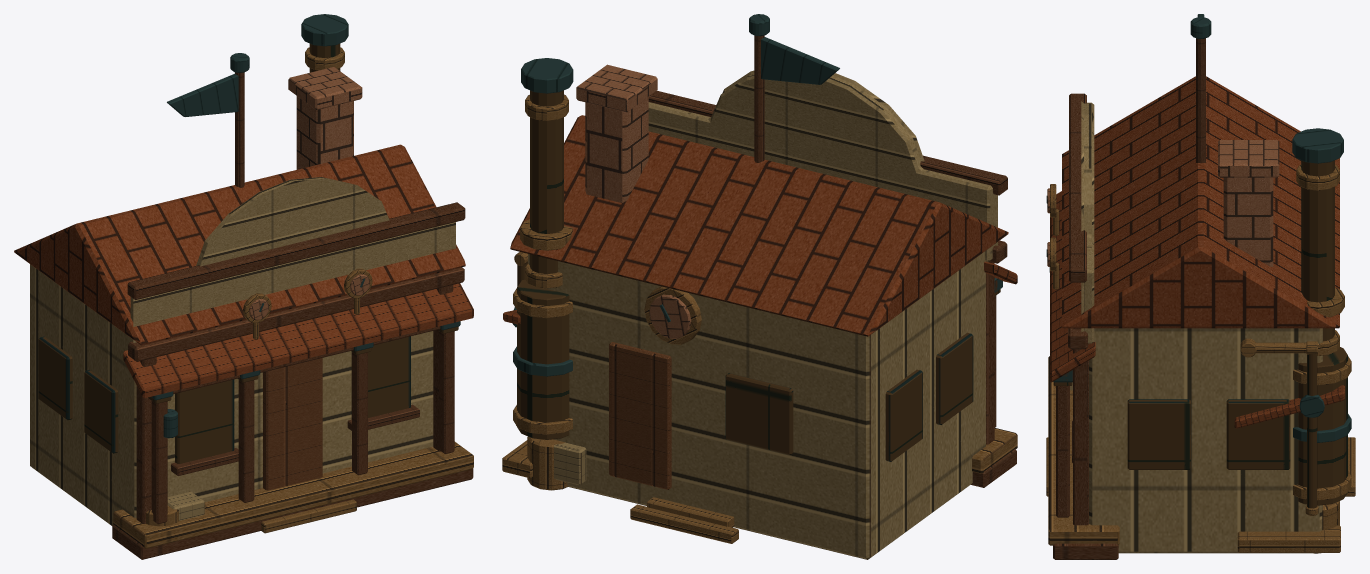
The model's file is claim-office.e2.glb.
3 views of the same model, side by side, from view 1: azimuth 30°, elevation 25°; view 2: azimuth 150°, elevation 25°; view 3: azimuth 270°, elevation 25° (orthographic). The views are drawn at different scales.
Visible parts, largest first — view 1: ClaimOfficeE2; view 2: ClaimOfficeE2; view 3: ClaimOfficeE2.
Part boxes in pixels (box(x1,y1,x2,y2)): ClaimOfficeE2: box(14, 14, 473, 559); ClaimOfficeE2: box(502, 14, 1017, 559); ClaimOfficeE2: box(1046, 14, 1355, 559).
Size of the model in its own units: 4.26 by 5.02 by 3.12.
1 material, 1 textured.
